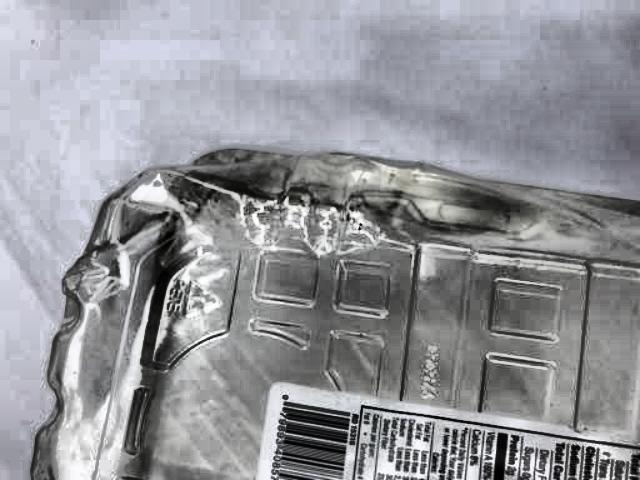Plastic: (24, 137, 640, 477)
